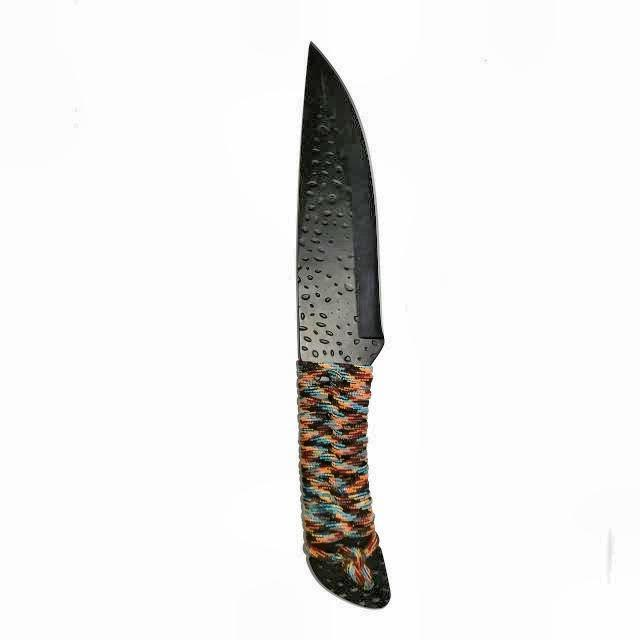knife: (295, 31, 409, 616)
